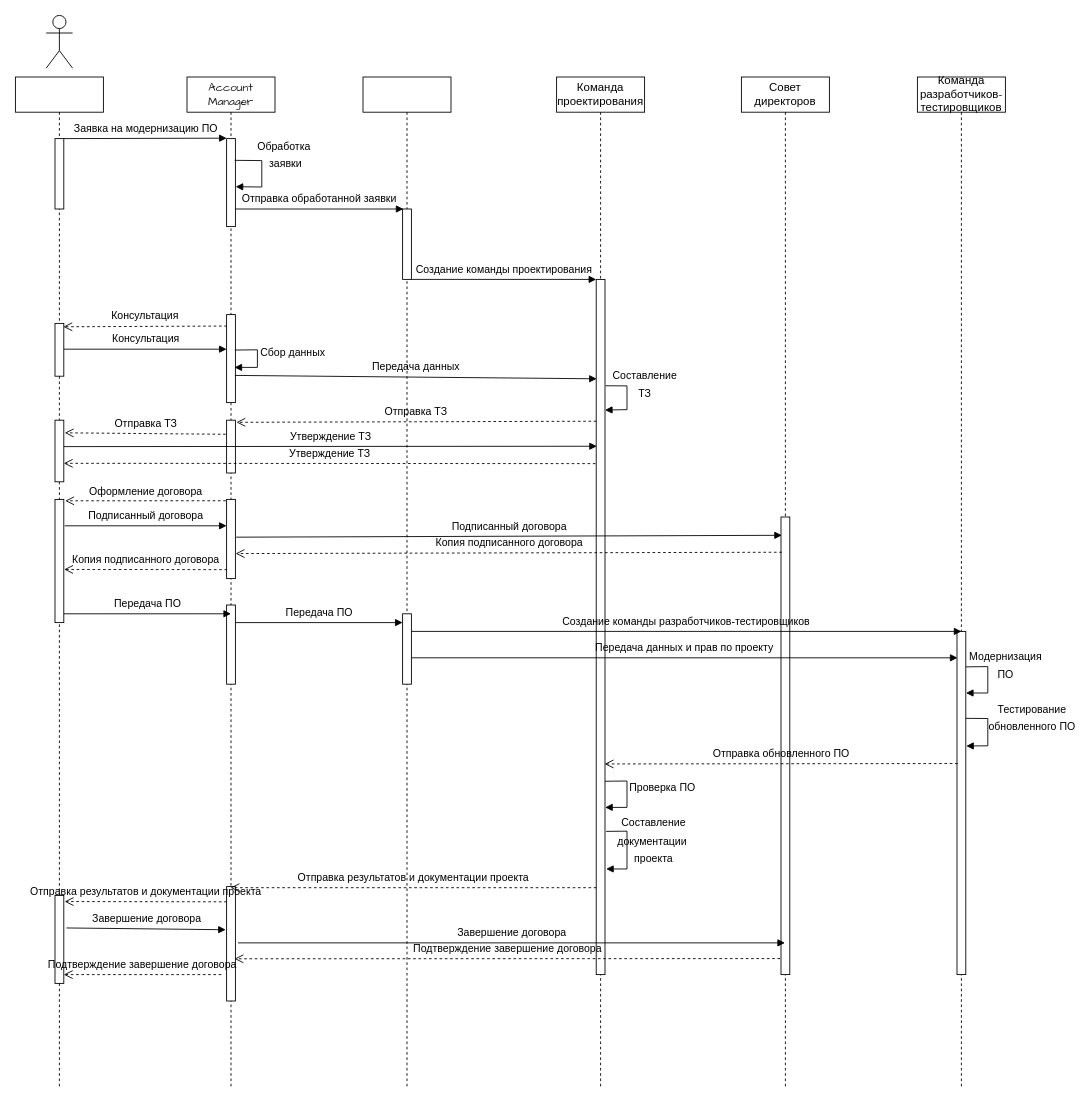
Image size: 1090x1104. Some labels were removed from this diagram. Each missing label, with the box of its shape:
Project Manager: (362, 76, 451, 1089)
Клиент: (15, 76, 103, 1089)
